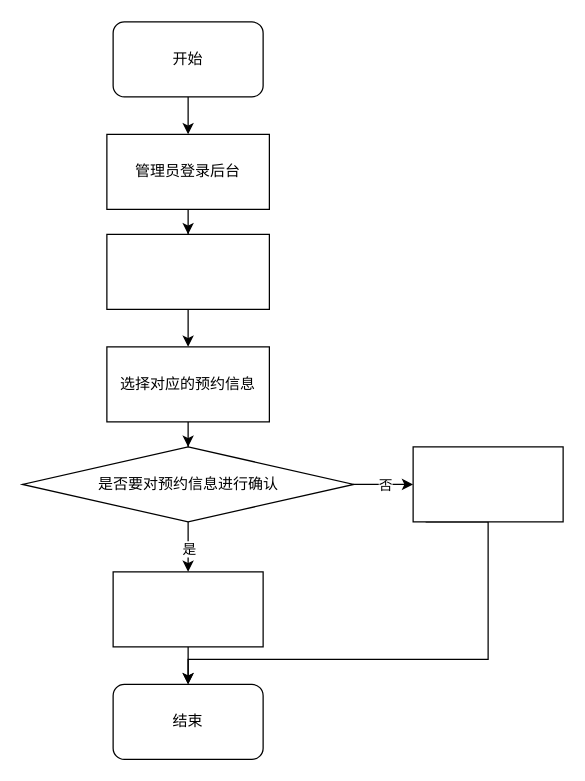
Some shapes in this 585 by 781 pixel diagram are drawn without their labels. The centre of each missing label's shape, as x and y in pixels:
"取消预约，状态变更" belongs at (487,484).
"查看预约信息管理页面" belongs at (187,271).
"状态变更，预约成功" belongs at (187,609).
